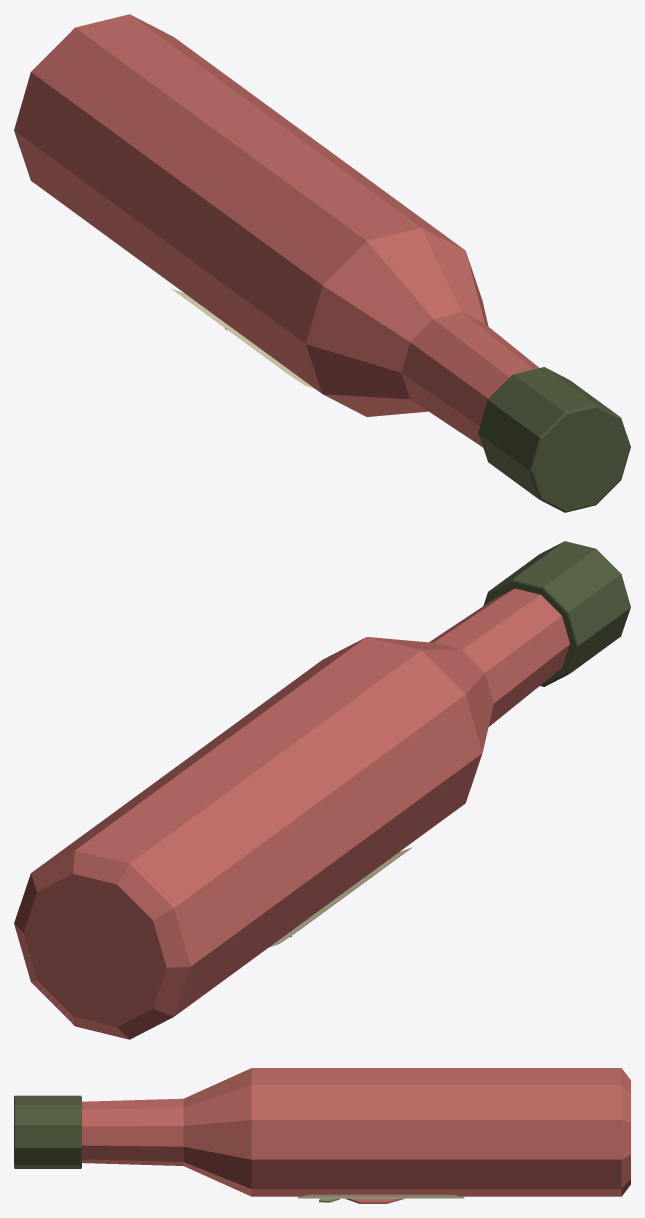
File: hot_sauce.glb
3 views of the same model, one above another, from view 1: azimuth 30°, elevation 25°; view 2: azimuth 150°, elevation 25°; view 3: azimuth 270°, elevation 25° (orthographic). The views are drawn at different scales.
Visible parts, largest first — view 1: hot_sauce; view 2: hot_sauce; view 3: hot_sauce.
Part boxes in pixels (x1=…): hot_sauce: x1=14, y1=14, x2=630, y2=512; hot_sauce: x1=14, y1=541, x2=630, y2=1039; hot_sauce: x1=14, y1=1068, x2=630, y2=1203.
Bounding box in the file's own units: 0.042 × 0.0433 × 0.2.
